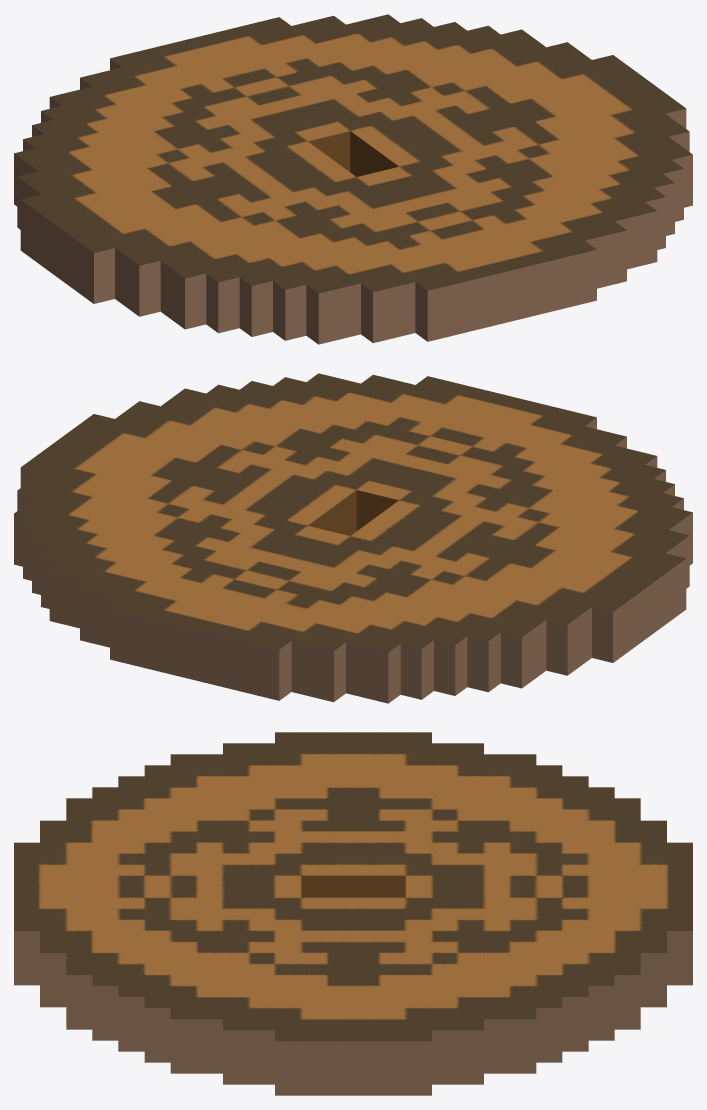
File: coin.glb
The picture shows the model from 3 angles, top to bottom: view 1: azimuth 30°, elevation 25°; view 2: azimuth 150°, elevation 25°; view 3: azimuth 270°, elevation 25°; orthographic projection. The views are drawn at different scales.
Visible parts, largest first — view 1: coin1-1.001-col; view 2: coin1-1.001-col; view 3: coin1-1.001-col.
Part boxes in pixels (x1,y1,x2,y2): coin1-1.001-col: [14, 14, 692, 344]; coin1-1.001-col: [14, 373, 692, 703]; coin1-1.001-col: [14, 732, 692, 1095].
Bounding box in the file's own units: 0.875 × 0.0719 × 0.8125.
Materials: 2 (1 with a texture image).
